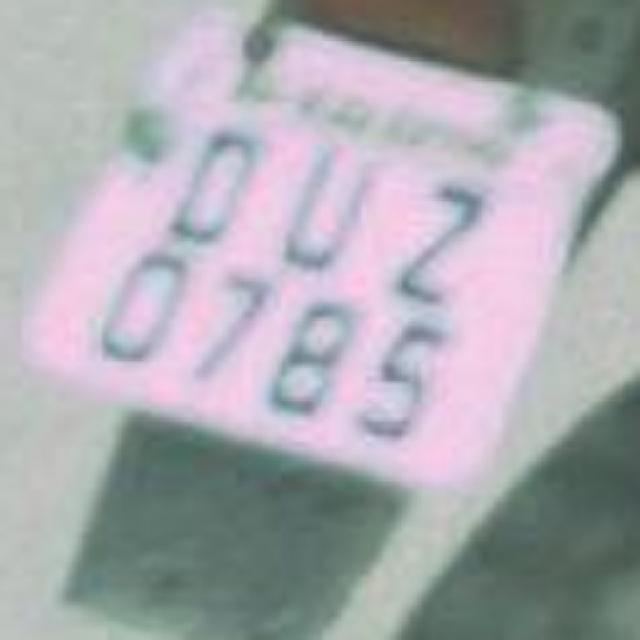5: (332, 296, 476, 456)
7: (168, 252, 280, 396)
8: (248, 268, 364, 432)
O: (84, 220, 208, 375), (156, 116, 269, 252)
U: (249, 124, 396, 288)
Z: (372, 168, 508, 312)
